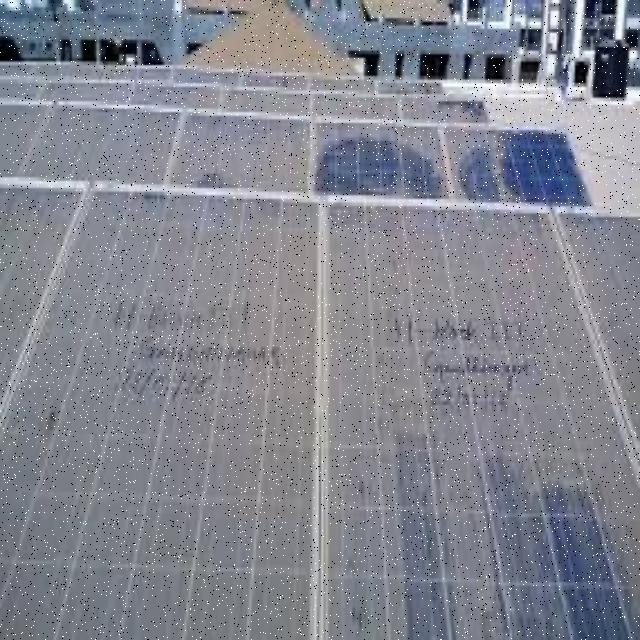dusty: (4, 188, 640, 624)
